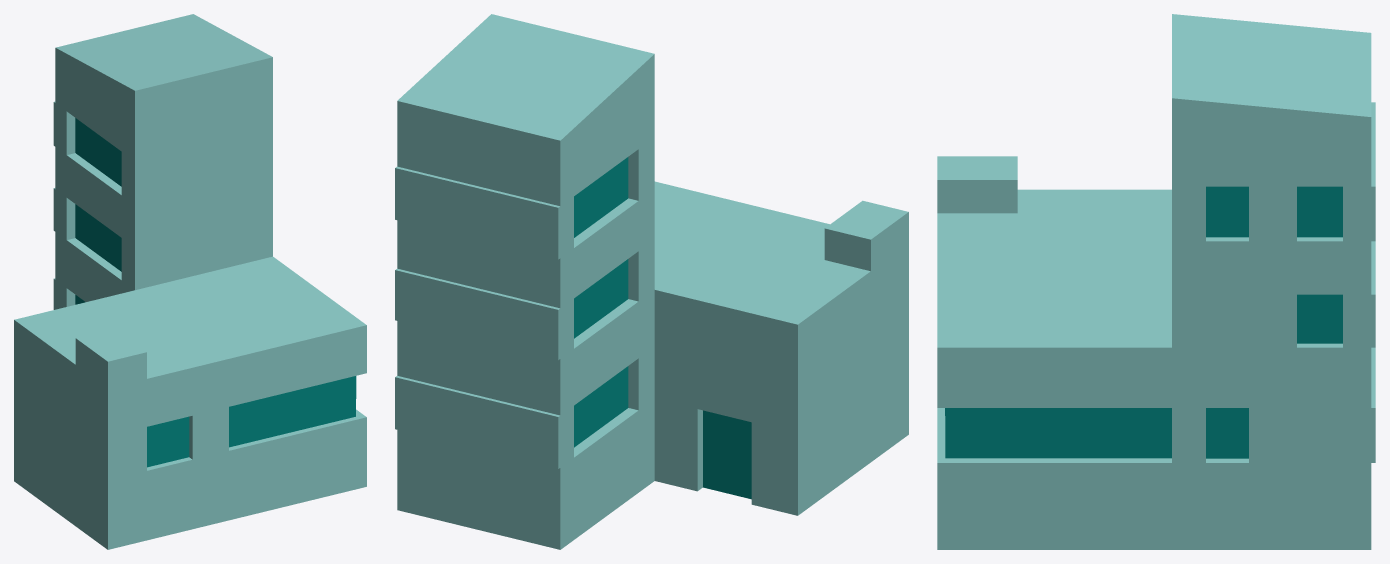
Rendered from bat_3.FBX.
The picture shows the model from 3 angles, left to right: view 1: azimuth 30°, elevation 25°; view 2: azimuth 150°, elevation 25°; view 3: azimuth 270°, elevation 25°; orthographic projection. The views are drawn at different scales.
Parts seen in each view (by area): view 1: Box001; view 2: Box001; view 3: Box001.
Part boxes in pixels (<box>): Box001: <box>14,14,366,549</box>; Box001: <box>395,14,908,549</box>; Box001: <box>937,14,1375,549</box>.
Bounding box in the file's own units: 73.89 × 98.43 × 86.57.
